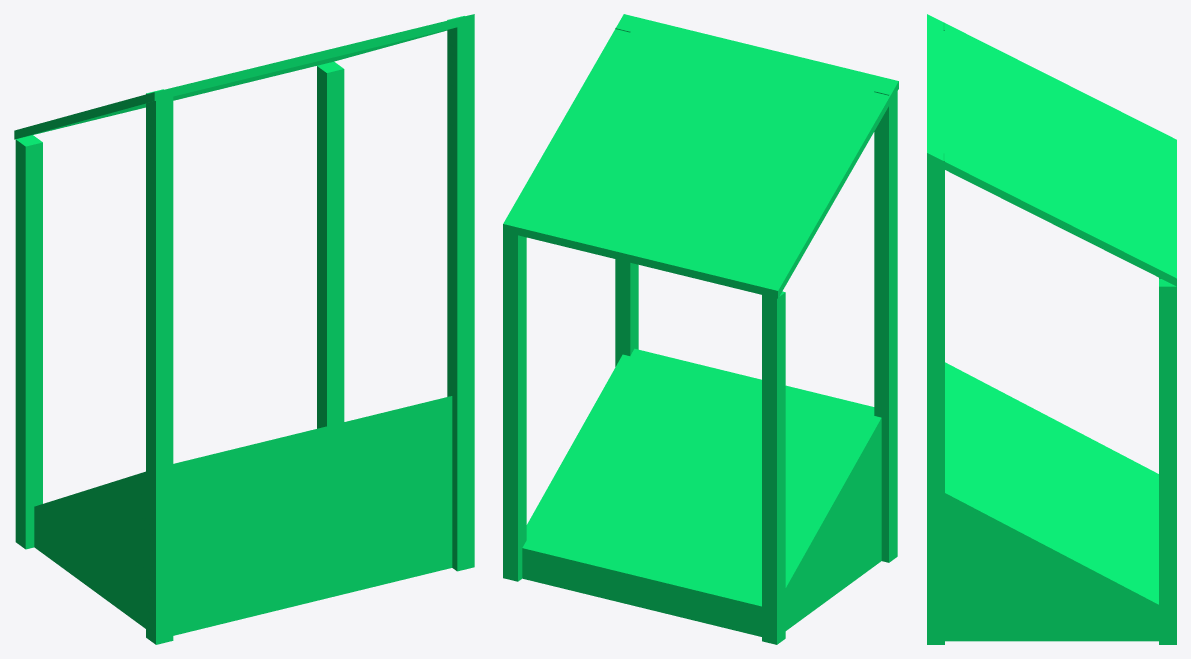
Rendered from StoreShell_Collision.FBX.
The picture shows the model from 3 angles, left to right: view 1: azimuth 30°, elevation 25°; view 2: azimuth 150°, elevation 25°; view 3: azimuth 270°, elevation 25°; orthographic projection. The views are drawn at different scales.
Parts seen in each view (by area): view 1: StoreShell_Collision; view 2: StoreShell_Collision; view 3: StoreShell_Collision.
Boxes of the visible parts, bbox=[...] form: StoreShell_Collision: bbox=[14, 14, 474, 644]; StoreShell_Collision: bbox=[503, 14, 898, 644]; StoreShell_Collision: bbox=[927, 14, 1176, 644].
Size of the model in its own units: 3.69 by 6.1 by 2.81.
